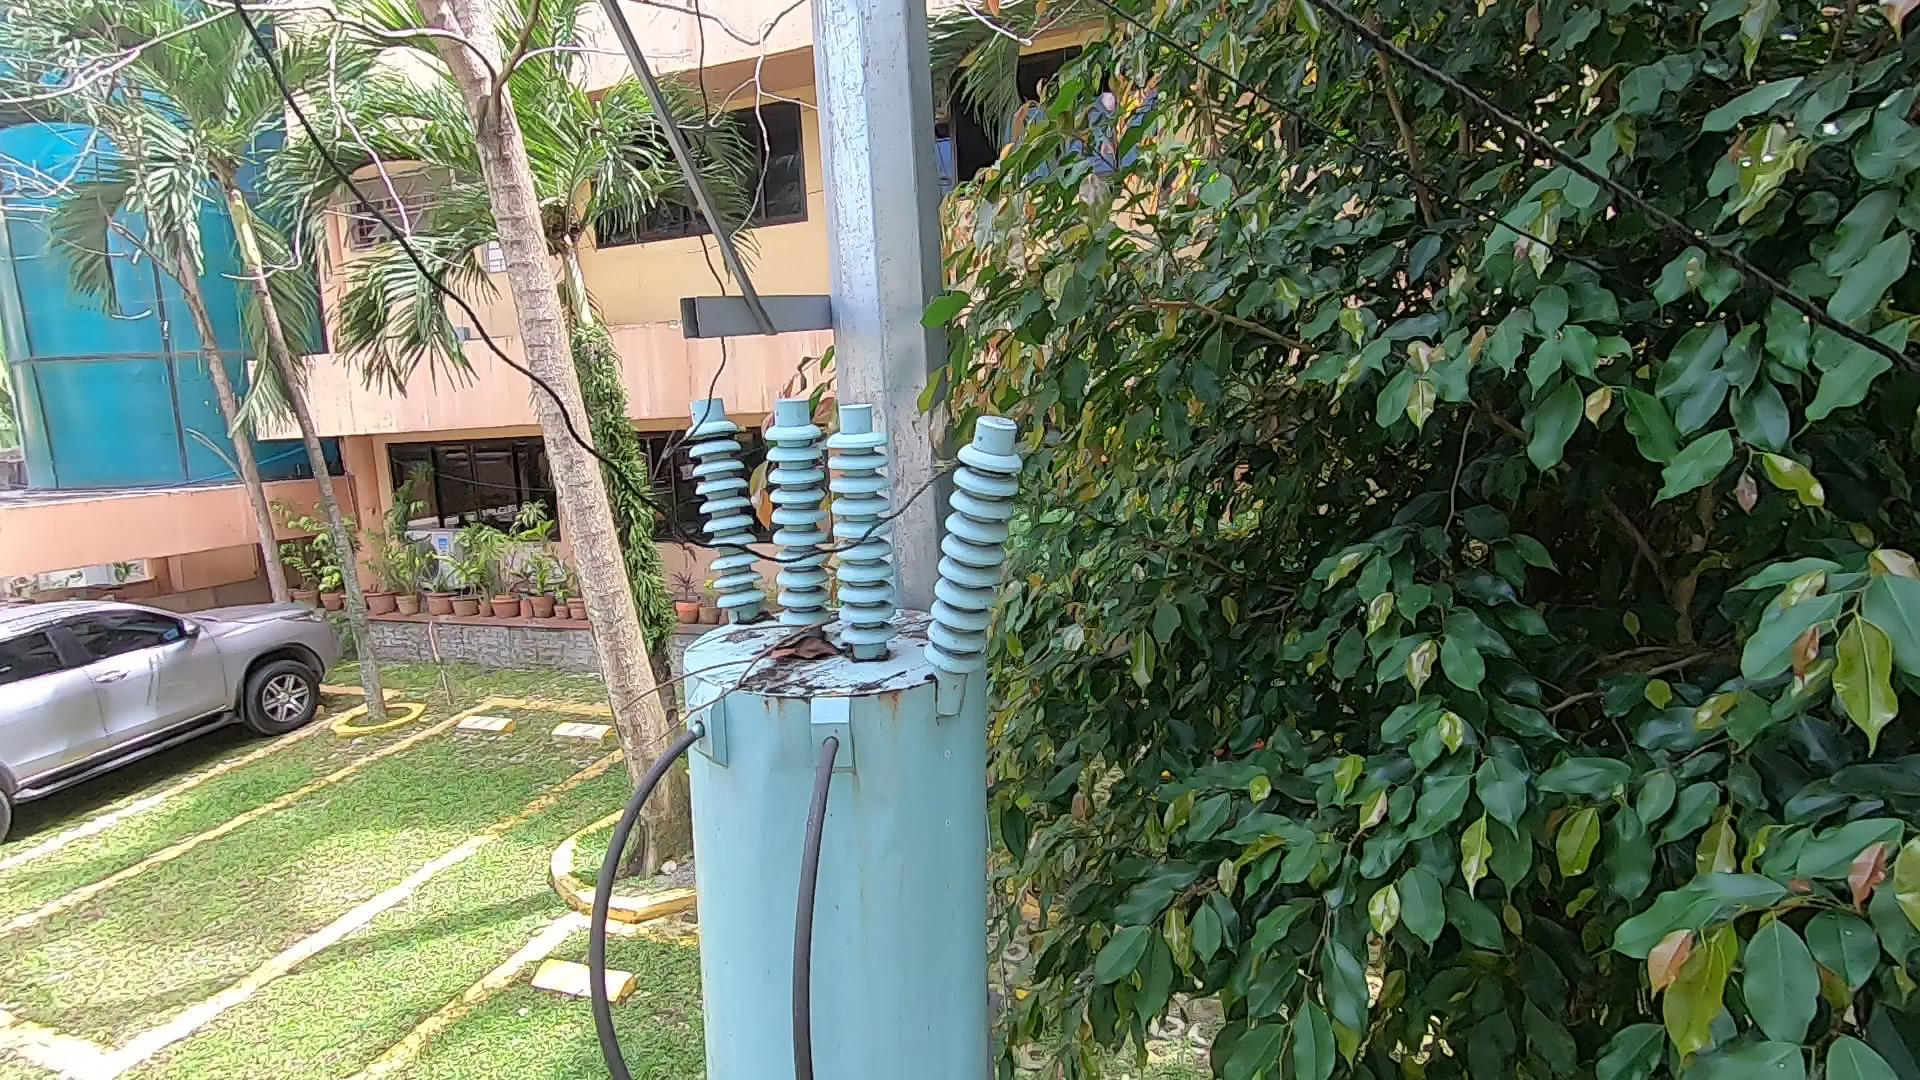leaf: (758, 641, 845, 666)
tree branch: (607, 603, 837, 764)
